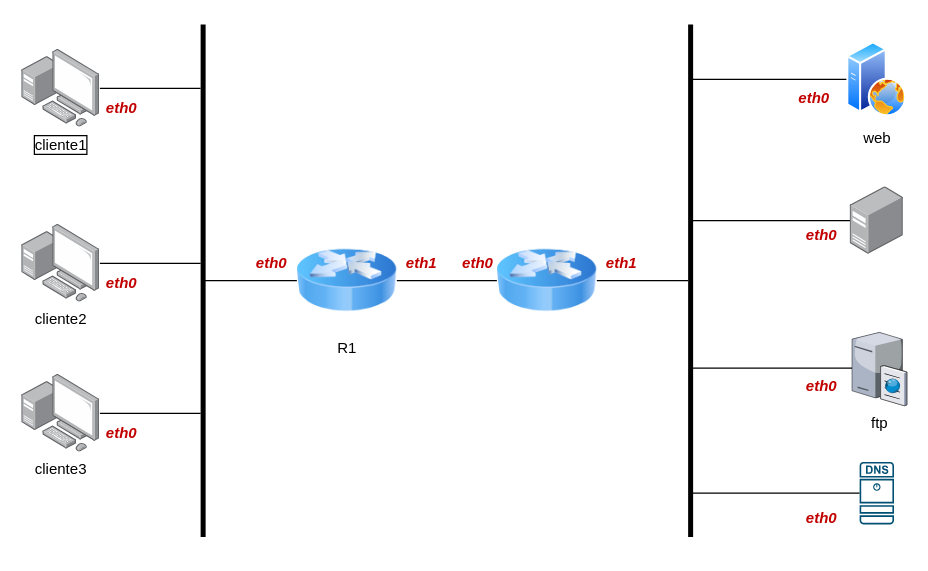
This 928x571 diagram has some shape labels left out. Each missing label, with the centre of its shape:
bind: the point at 876,492
R2: the point at 546,280
ssh: the point at 876,220
